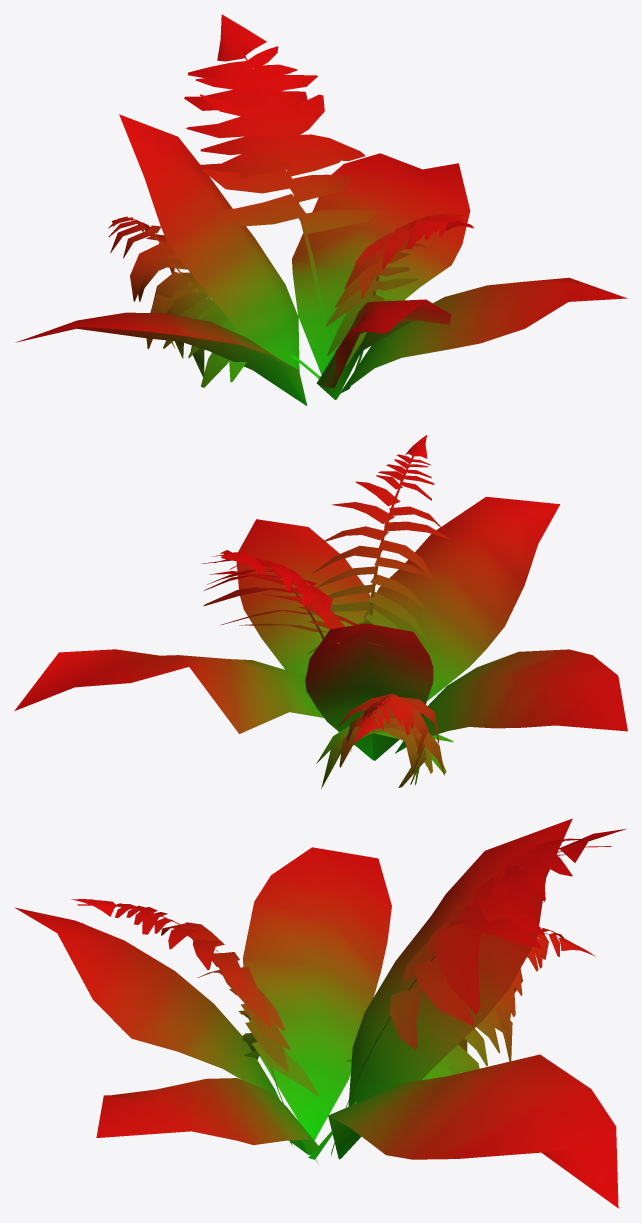
File: Var2_LOD3.fbx
3 renders of one model, top to bottom at view 1: azimuth 30°, elevation 25°; view 2: azimuth 150°, elevation 25°; view 3: azimuth 270°, elevation 25°, orthographic. The views are drawn at different scales.
Parts seen in each view (by area): view 1: _84zn_Var2_LOD3; view 2: _84zn_Var2_LOD3; view 3: _84zn_Var2_LOD3.
Part boxes in pixels (x1,y1,x2,y2): _84zn_Var2_LOD3: (16, 14, 627, 405); _84zn_Var2_LOD3: (14, 435, 627, 788); _84zn_Var2_LOD3: (14, 818, 626, 1208).
Bounding box in the file's own units: 46.62 × 24.07 × 39.22.
